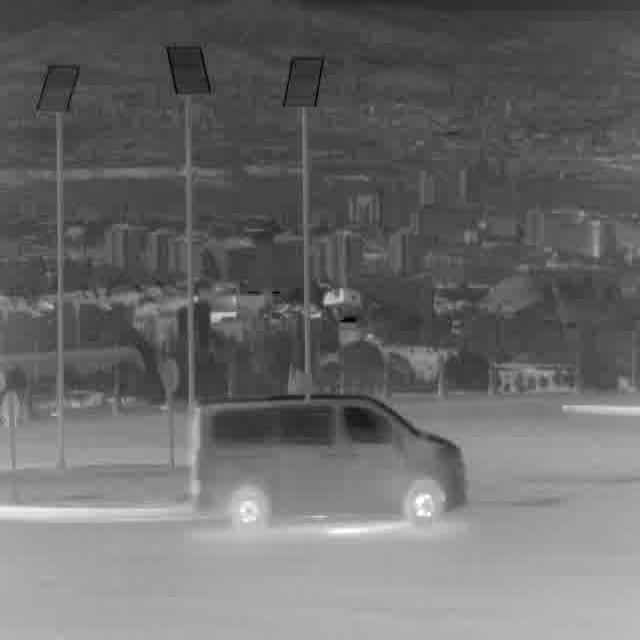Car: (191, 394, 468, 521)
